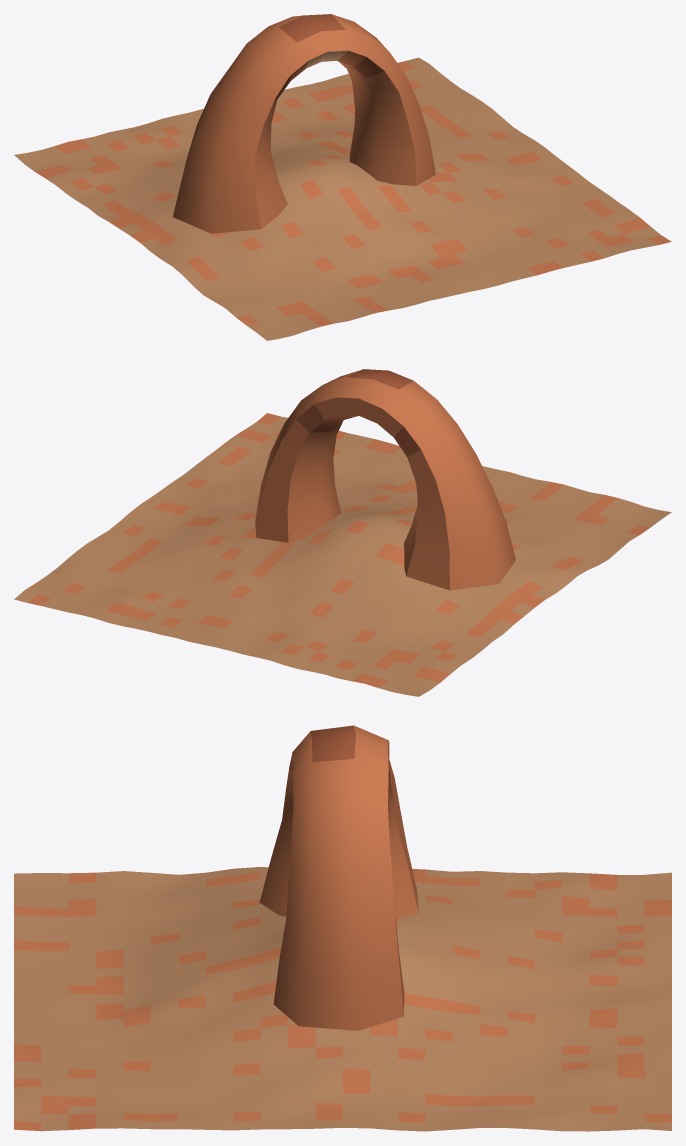
File: landmark-arch-low.glb
The picture shows the model from 3 angles, top to bottom: view 1: azimuth 30°, elevation 25°; view 2: azimuth 150°, elevation 25°; view 3: azimuth 270°, elevation 25°; orthographic projection. The views are drawn at different scales.
Visible parts, largest first — view 1: arch.001; view 2: arch.001; view 3: arch.001.
Part boxes in pixels (bbox=[...]): arch.001: bbox=[14, 14, 671, 340]; arch.001: bbox=[14, 369, 671, 696]; arch.001: bbox=[14, 725, 671, 1131].
Bounding box in the file's own units: 2.24 × 1 × 2.42.
